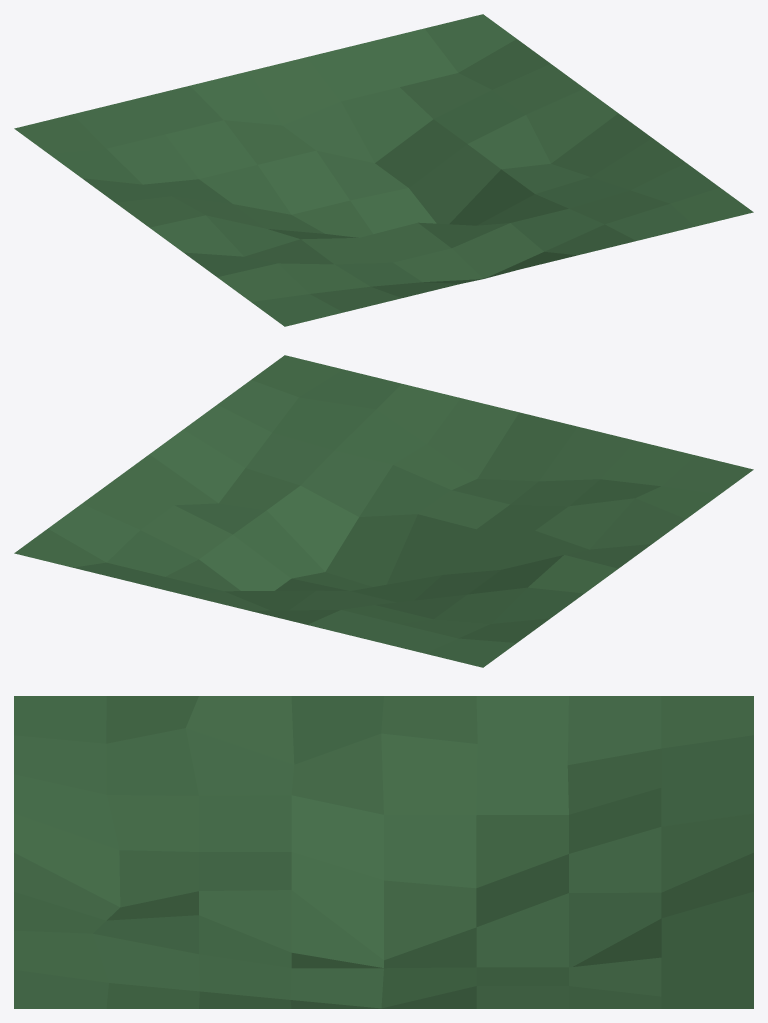
The model's file is Terrain_5_Light_Green.fbx.
3 views of the same model, one above another, from view 1: azimuth 30°, elevation 25°; view 2: azimuth 150°, elevation 25°; view 3: azimuth 270°, elevation 25° (orthographic). The views are drawn at different scales.
Visible parts, largest first — view 1: Terrain_5_Light_Green; view 2: Terrain_5_Light_Green; view 3: Terrain_5_Light_Green.
Part boxes in pixels (x1,y1,x2,y2): Terrain_5_Light_Green: (14,14,753,326); Terrain_5_Light_Green: (14,355,753,667); Terrain_5_Light_Green: (14,696,753,1008).
Size of the model in its own units: 3000 by 506 by 3000.
